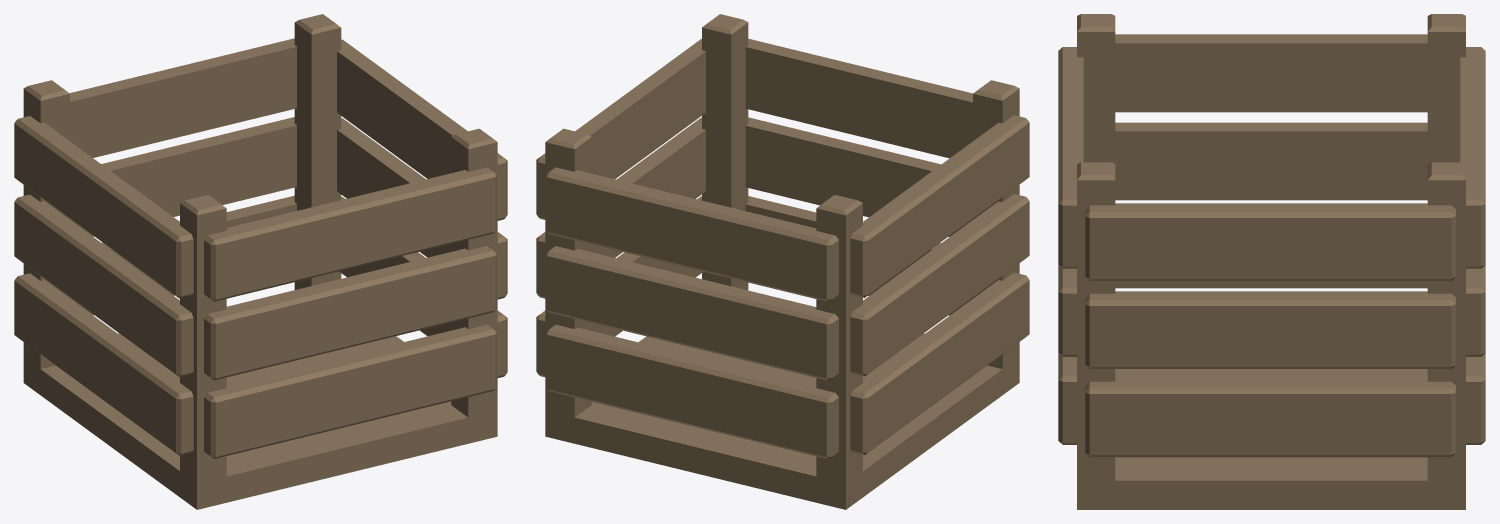
File: SmallCrate_FBX.fbx
The picture shows the model from 3 angles, left to right: view 1: azimuth 30°, elevation 25°; view 2: azimuth 150°, elevation 25°; view 3: azimuth 270°, elevation 25°; orthographic projection. The views are drawn at different scales.
Visible parts, largest first — view 1: pCube29; view 2: pCube29; view 3: pCube29.
Part boxes in pixels (box(x1,y1,x2,y2)): pCube29: box(14, 14, 507, 509); pCube29: box(536, 14, 1029, 509); pCube29: box(1058, 14, 1485, 509).
Bounding box in the file's own units: 66.19 × 56.74 × 65.93.
